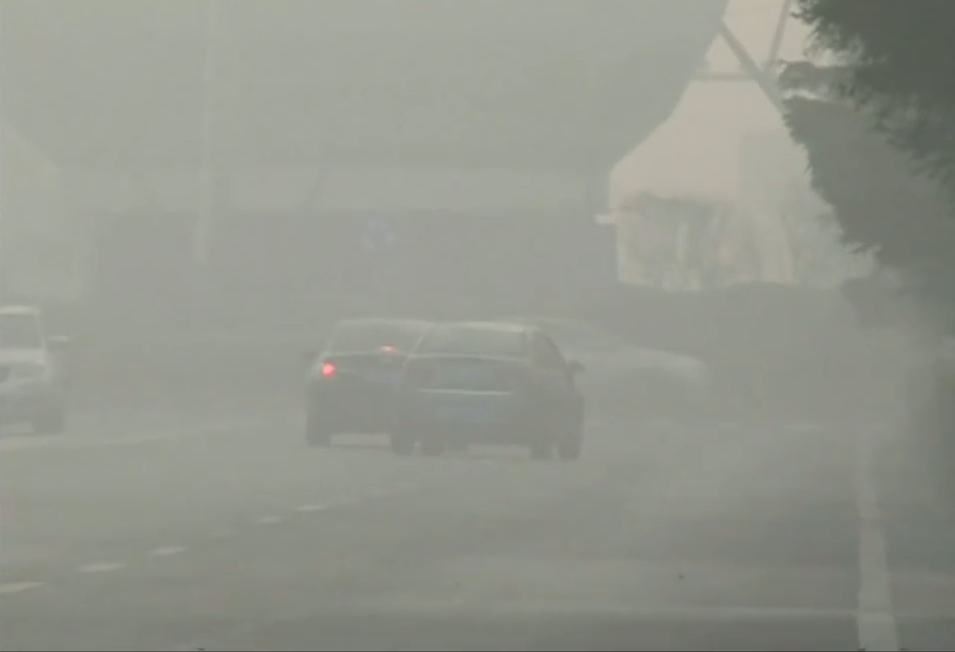car: (389, 317, 587, 462), (439, 324, 708, 428), (298, 314, 457, 450), (1, 302, 74, 439)
